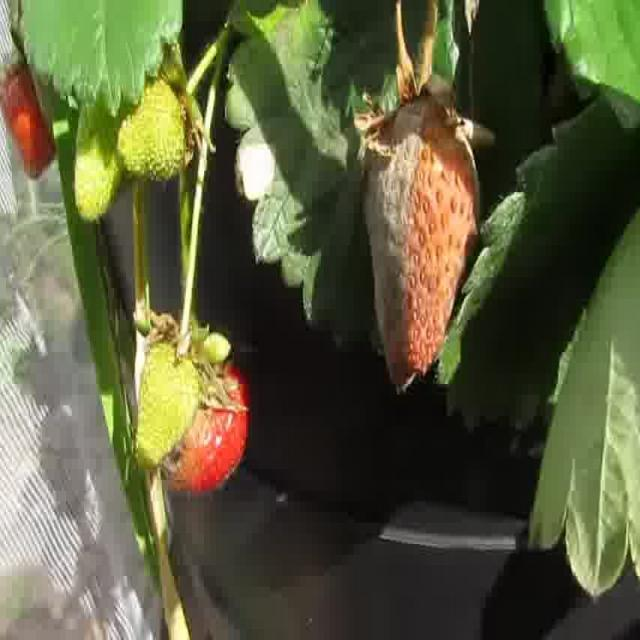Fruta sana: (74, 68, 138, 222), (133, 338, 200, 474), (118, 76, 196, 182), (0, 59, 60, 181)
Moho gris: (360, 85, 483, 400), (162, 353, 252, 493)
